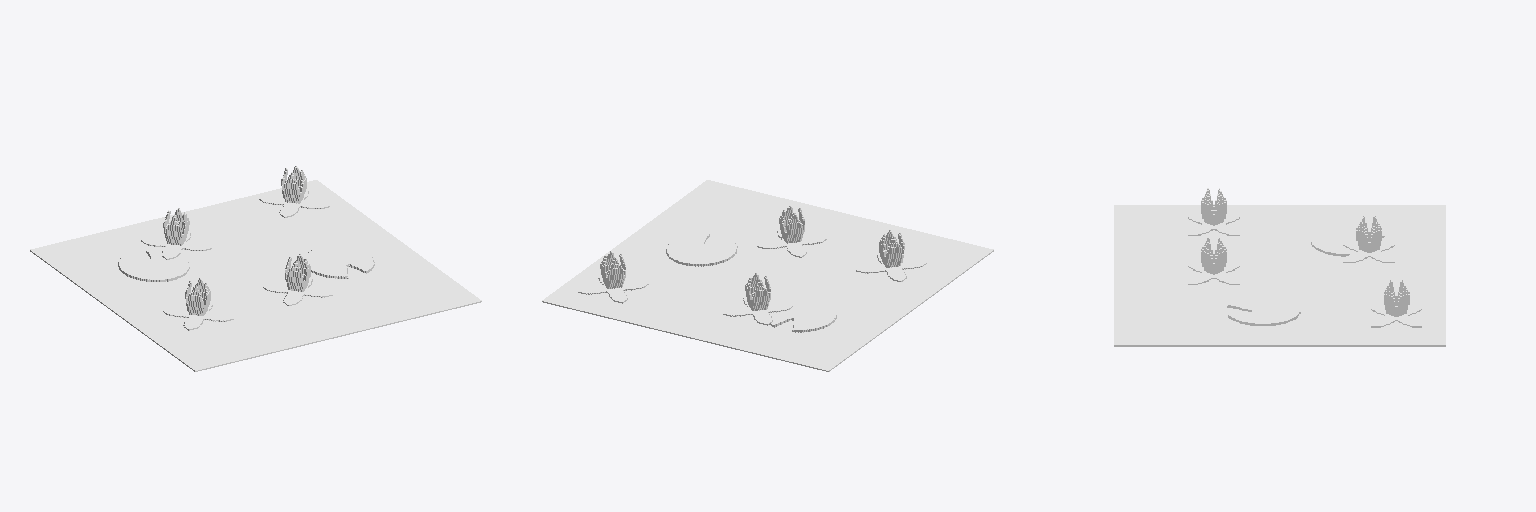
File: pool-0-Lotus1.obj
3 views of the same model, side by side, from view 1: azimuth 30°, elevation 25°; view 2: azimuth 150°, elevation 25°; view 3: azimuth 270°, elevation 25° (orthographic).
Visible parts, largest first — view 1: Lotus1; view 2: Lotus1; view 3: Lotus1.
Part boxes in pixels (left/top/right/bottom): Lotus1: left=30, top=166, right=481, bottom=371; Lotus1: left=542, top=180, right=993, bottom=371; Lotus1: left=1114, top=188, right=1445, bottom=346.
Size of the model in its own units: 25.6 by 3.5 by 25.6.